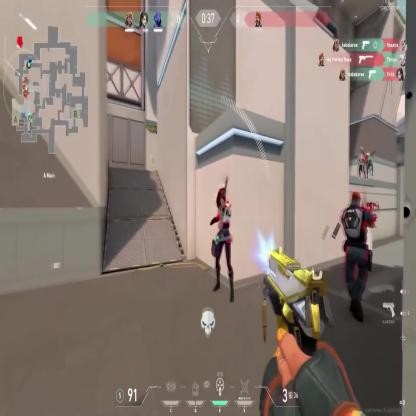enemy: (342, 189, 376, 324), (213, 188, 235, 298)
enemy_head: (218, 192, 227, 210)
